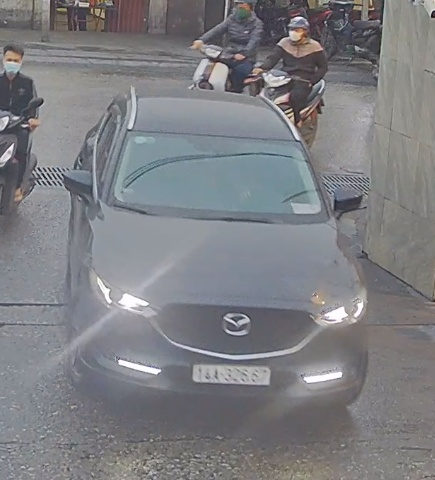vehicle plate: (183, 355, 276, 394)
